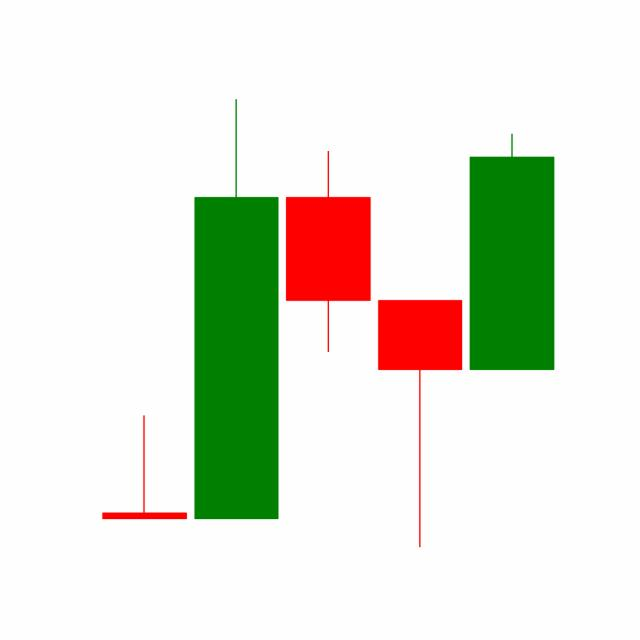Hammer: (373, 297, 467, 550)
